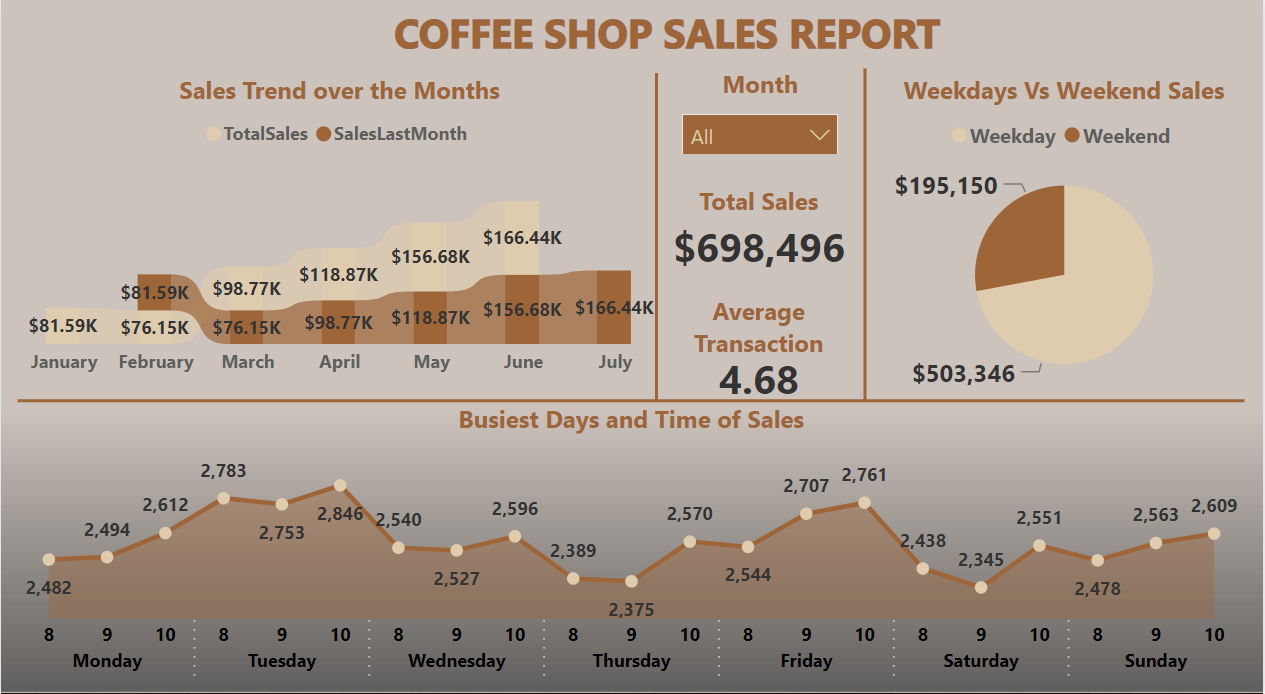

What the dashboard file says about the page in this screenshot:
{"tool":"powerbi","page":{"name":"Report 1","canvas":[841,464],"ordinal":0},"visuals":[{"type":"textbox","box":[99,0,690,58],"z":0},{"type":"ribbonChart","title":"Sales Trend over the Months","fields":{"Category":["Coffee Sales Data.transaction_date.Variation.Date Hierarchy.Month"],"Y":["Dax Measure.TotalSales","Dax Measure.SalesLastMonth"]},"box":[0,50,451,211],"z":1000},{"type":"card","title":"Average Transaction","fields":{"Values":["Dax Measure.Avg Transaction Value per Customer"]},"box":[428,197,154,73],"z":2000},{"type":"shape","box":[431,50,12,219],"z":3000},{"type":"shape","box":[570,47,12,222],"z":4000},{"type":"areaChart","title":"Busiest Days and Time of Sales","fields":{"Category":["Coffee Sales Data.Day Name","Coffee Sales Data.Hour"],"Y":["Dax Measure.TotalTransactions"]},"box":[11,269,818,195],"z":5000},{"type":"shape","box":[11,261,818,15],"z":6000},{"type":"pieChart","title":"Weekdays Vs Weekend Sales","fields":{"Y":["Dax Measure.TotalSales"],"Category":["Coffee Sales Data.Week_Name"]},"box":[576,50,265,219],"z":7000},{"type":"slicer","title":"Month","fields":{"Values":["Coffee Sales Data.Month Name"]},"box":[444,46,124,58],"z":8000},{"type":"card","title":"Total Sales","fields":{"Values":["Dax Measure.TotalSales"]},"box":[428,124,154,64],"z":9000}]}

Visuals, with their boxes in screenshot pixels (x1, y1, x2, y2), scaled from the page's 841x464 canvas onto the 1265x694 screenshot:
textbox: 149,0,1187,87
"Sales Trend over the Months" ribbonChart: 0,75,678,390
"Average Transaction" card: 644,295,875,404
shape: 648,75,666,402
shape: 857,70,875,402
"Busiest Days and Time of Sales" areaChart: 17,402,1247,693
shape: 17,390,1247,413
"Weekdays Vs Weekend Sales" pieChart: 866,75,1264,402
"Month" slicer: 668,69,854,156
"Total Sales" card: 644,185,875,281
